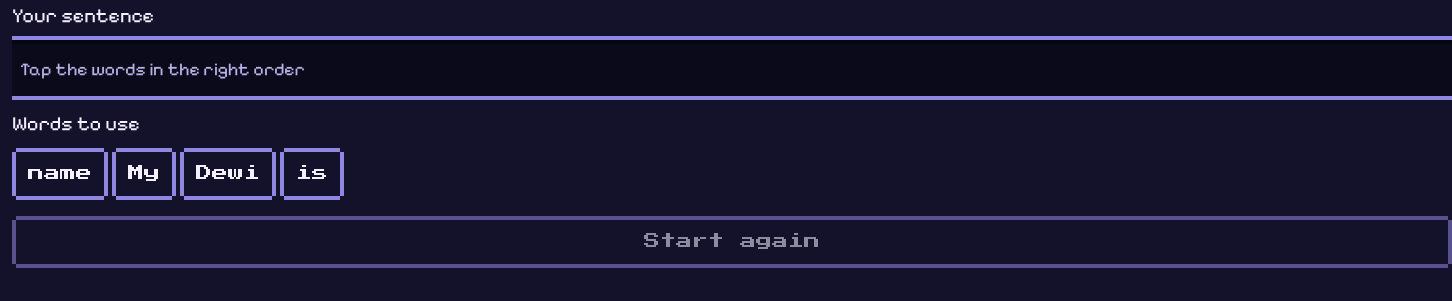
Scenario: ReorderActivity › builds a sentence in the order the words are chosen and disables a word once used
Click the button with aria-label "Add: My" at (144, 174), box [116,152,172,196]
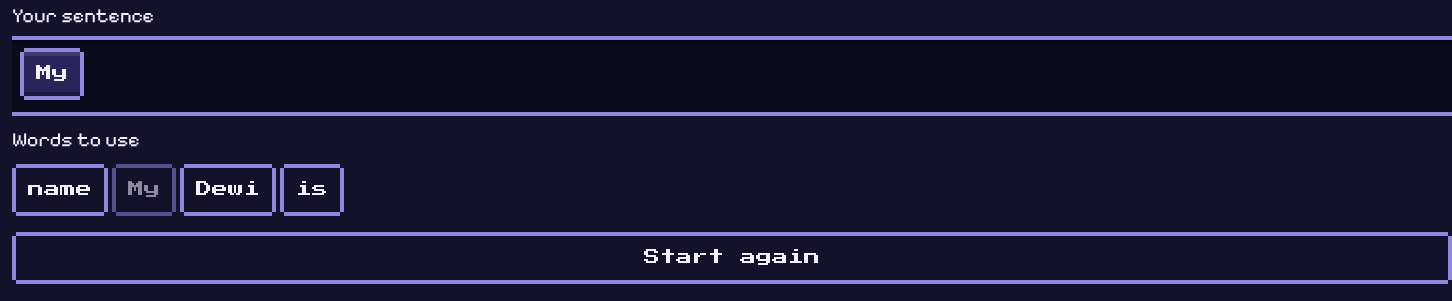
Click the button with aria-label "Add: name" at (60, 190), box [16,168,104,212]
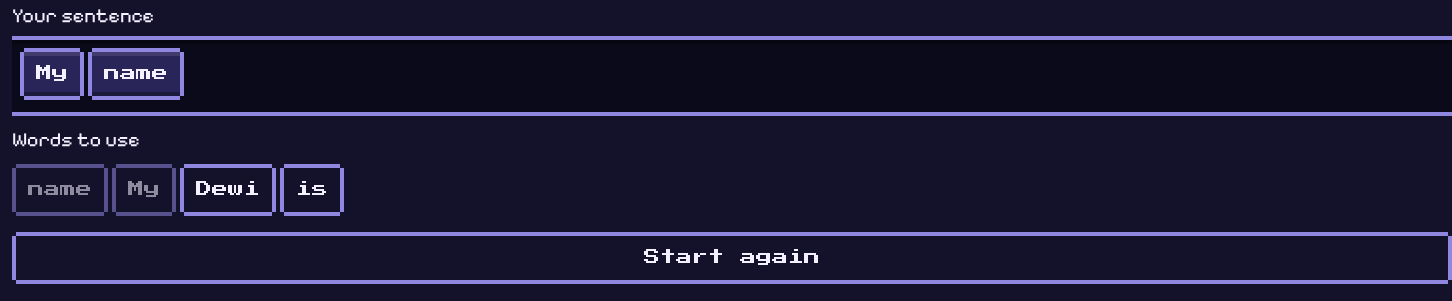
Expected: the button with aria-label "Add: My" is disabled, [116,168,172,212]
Expected: the button with aria-label "Remove: My" is shown, [24,52,80,96]
Expected: the buttons read "My", "name", in this order, [24,52,80,96]; [92,52,180,96]
